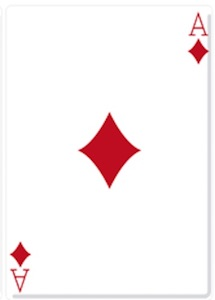AceOfDiamonds: (2, 3, 212, 299)
